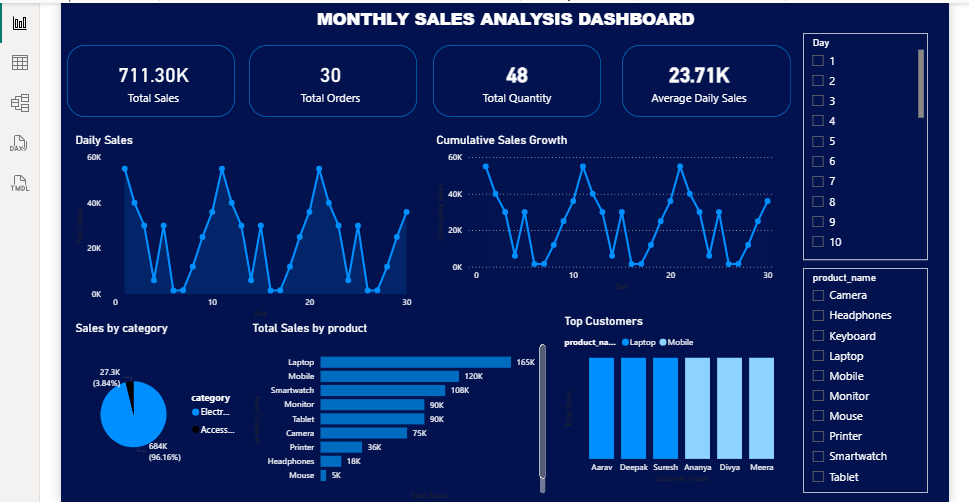

What the dashboard file says about the page in this screenshot:
{"tool":"powerbi","page":{"name":"Page 1","canvas":[1280,720],"ordinal":0},"visuals":[{"type":"textbox","box":[0,0,1280.2,43.2],"z":0},{"type":"card","fields":{"Values":["sales orders.Total Sales"]},"box":[135.4,187.2,169.9,79.2],"z":1000},{"type":"shape","box":[535.7,60.5,241.9,103.7],"z":2000},{"type":"shape","box":[807.8,60.5,243.4,103.7],"z":3000},{"type":"card","fields":{"Values":["sales orders.Total Orders"]},"box":[337,175.7,169.9,79.2],"z":4000},{"type":"card","fields":{"Values":["sales orders.Total Quantity"]},"box":[571.7,72,169.9,79.2],"z":5000},{"type":"card","fields":{"Values":["sales orders.Average Daily Sales"]},"box":[833.8,72,169.9,79.2],"z":6000},{"type":"lineChart","title":"Daily Sales","fields":{"Category":["sales orders.order_date.Variation.Date Hierarchy.Day"],"Y":["sales orders.Total Sales"]},"box":[15.8,187.2,496.8,270.7],"z":7000},{"type":"lineChart","title":"Cumulative Sales Growth","fields":{"Category":["sales orders.order_date.Variation.Date Hierarchy.Day"],"Y":["sales orders.Cumulative Sales"]},"box":[535.7,187.2,496.8,231.8],"z":8000},{"type":"barChart","title":"Total Sales by product","fields":{"Category":["sales products.product_name"],"Y":["sales orders.Total Sales"]},"box":[270.7,457.9,432,262.1],"z":9000},{"type":"hundredPercentStackedColumnChart","title":"Top Customers","fields":{"Y":["sales orders.Total Sales"],"Category":["sales customers.customer_name"],"Series":["sales products.product_name"]},"box":[720,447.8,331.2,247.7],"z":10000},{"type":"slicer","fields":{"Values":["sales products.product_name"]},"box":[1068.5,381.6,180,324],"z":11000},{"type":"slicer","fields":{"Values":["sales orders.order_date.Variation.Date Hierarchy.Day"]},"box":[1068.5,43.2,180,326.9],"z":12000},{"type":"shape","box":[8.6,60.5,241.9,103.7],"z":13000},{"type":"shape","box":[270.7,60.5,241.9,103.7],"z":14000},{"type":"card","fields":{"Values":["sales orders.Total Sales"]},"box":[36,72,194.4,79.2],"z":15000},{"type":"card","fields":{"Values":["sales orders.Total Orders"]},"box":[290.9,72,194.4,79.2],"z":16000},{"type":"pieChart","title":"Sales by category","fields":{"Category":["sales products.category"],"Y":["Sum(sales orders.sales)"]},"box":[15.8,457.9,249.1,247.7],"z":17000}]}

Visuals, with their boxes on the page's 1280x720 design canvas (x1, y1, x2, y2). These are canvas units, not pixel positions in the 969x502 screenshot, which may show the page scaled, cropped or inside an application window:
textbox: bbox=[0, 0, 1280, 43]
card - sales orders.Total Sales: bbox=[135, 187, 305, 266]
shape: bbox=[536, 60, 778, 164]
shape: bbox=[808, 60, 1051, 164]
card - sales orders.Total Orders: bbox=[337, 176, 507, 255]
card - sales orders.Total Quantity: bbox=[572, 72, 742, 151]
card - sales orders.Average Daily Sales: bbox=[834, 72, 1004, 151]
"Daily Sales" lineChart: bbox=[16, 187, 513, 458]
"Cumulative Sales Growth" lineChart: bbox=[536, 187, 1032, 419]
"Total Sales by product" barChart: bbox=[271, 458, 703, 720]
"Top Customers" hundredPercentStackedColumnChart: bbox=[720, 448, 1051, 696]
slicer - sales products.product_name: bbox=[1068, 382, 1248, 706]
slicer - sales orders.order_date.Variation.Date Hierarchy.Day: bbox=[1068, 43, 1248, 370]
shape: bbox=[9, 60, 250, 164]
shape: bbox=[271, 60, 513, 164]
card - sales orders.Total Sales: bbox=[36, 72, 230, 151]
card - sales orders.Total Orders: bbox=[291, 72, 485, 151]
"Sales by category" pieChart: bbox=[16, 458, 265, 706]
